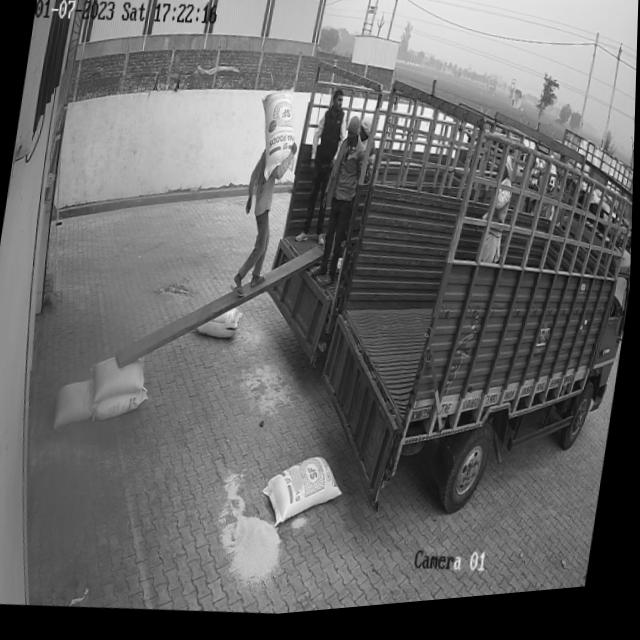sack: (259, 453, 349, 540), (251, 90, 301, 188), (89, 353, 149, 407), (53, 375, 100, 433), (95, 385, 151, 428), (197, 308, 244, 347)
